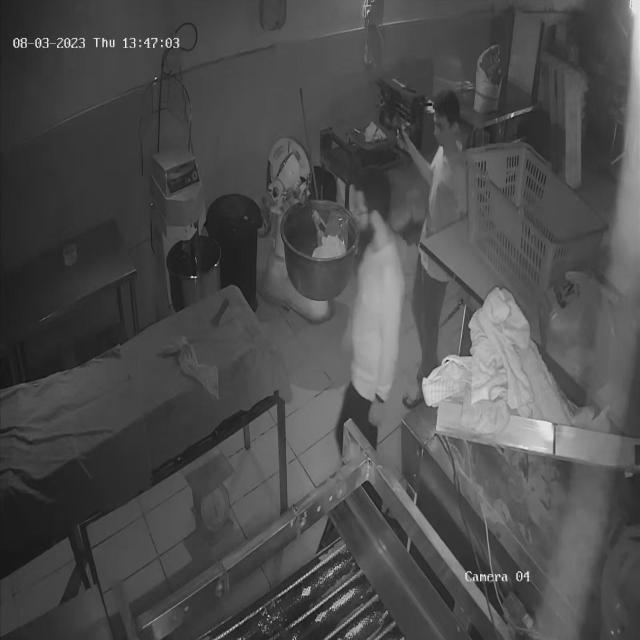Knife: (382, 87, 416, 155)
